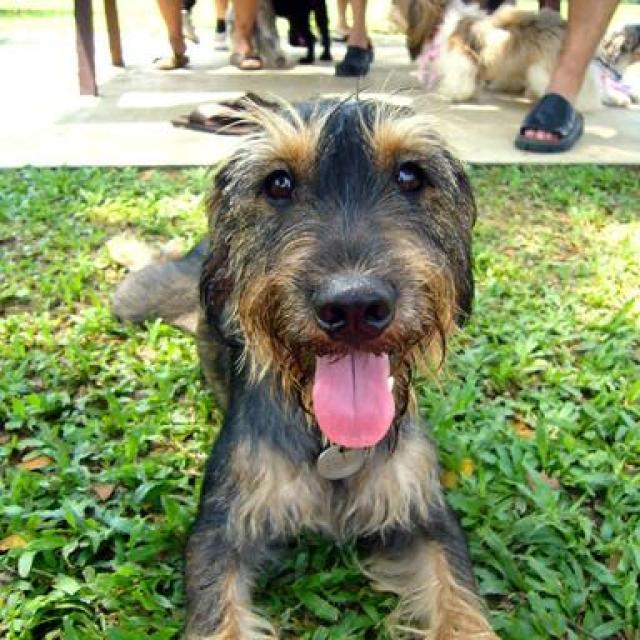adult_dog: (104, 88, 501, 639), (399, 0, 562, 100), (574, 20, 640, 109), (263, 1, 337, 64)
non-dog: (516, 2, 620, 154), (153, 0, 256, 72), (336, 1, 374, 80)
